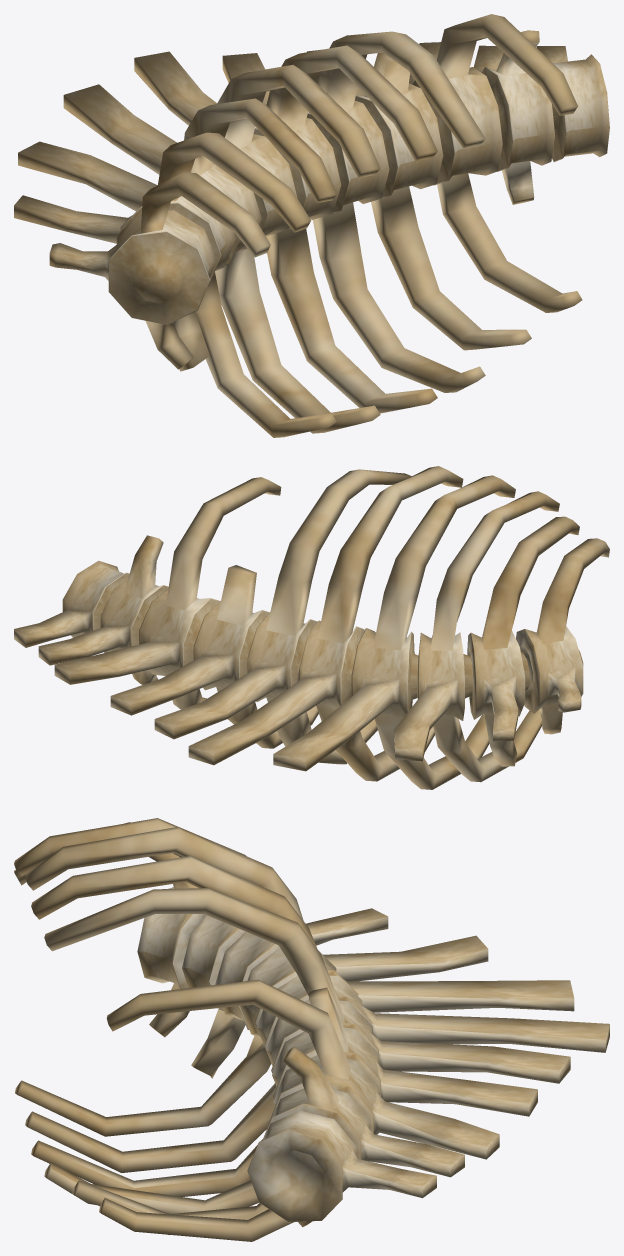
The model's file is Bones_01.FBX.
3 views of the same model, one above another, from view 1: azimuth 30°, elevation 25°; view 2: azimuth 150°, elevation 25°; view 3: azimuth 270°, elevation 25° (orthographic). The views are drawn at different scales.
Parts seen in each view (by area): view 1: Bones_01; view 2: Bones_01; view 3: Bones_01.
Boxes of the visible parts, x1=… form: Bones_01: x1=14, y1=14, x2=609, y2=437; Bones_01: x1=14, y1=466, x2=609, y2=789; Bones_01: x1=14, y1=818, x2=609, y2=1241.
Size of the model in its own units: 220 by 122 by 192.
